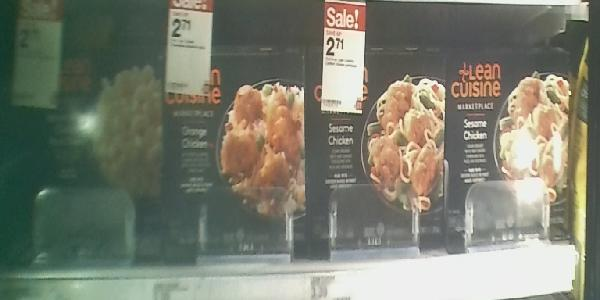pizza1: (161, 40, 310, 244), (315, 48, 444, 249), (34, 29, 161, 224), (444, 52, 573, 238)
